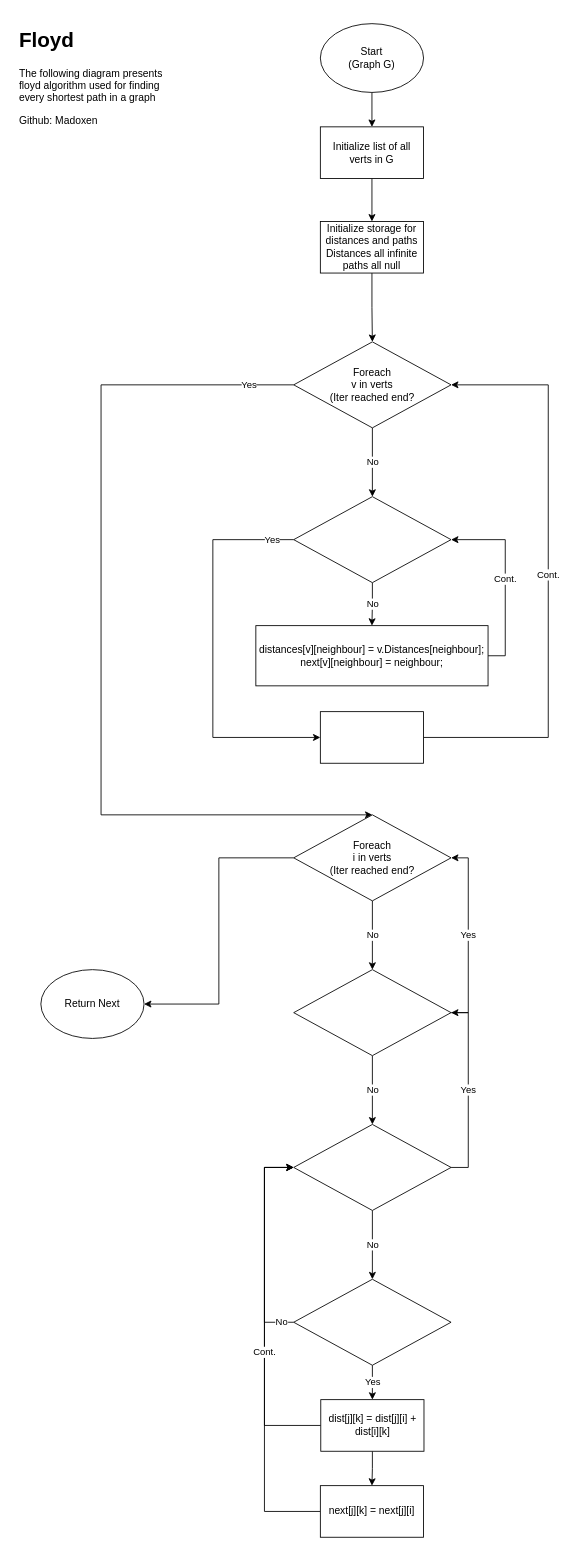
The diagram is 574 pixels wide and 1552 high, and some of its shapes have lost their labels. The shapes that lost their labels are listed below. From the top down, each one's box as (x1, y1, x2, y2) in pixels, then its label:
(293, 496, 451, 583): Foreach neighbour in V.Neighbours (Iter reached end?
(319, 711, 424, 763): distances[v][v] = 0 next[v][v] = v
(293, 969, 451, 1056): Foreach j in verts (Iter reached end?
(293, 1124, 451, 1210): Foreach k in verts (Iter reached end?
(293, 1278, 451, 1365): dist[j][k] > dist[j][i] + dist[i][k]
